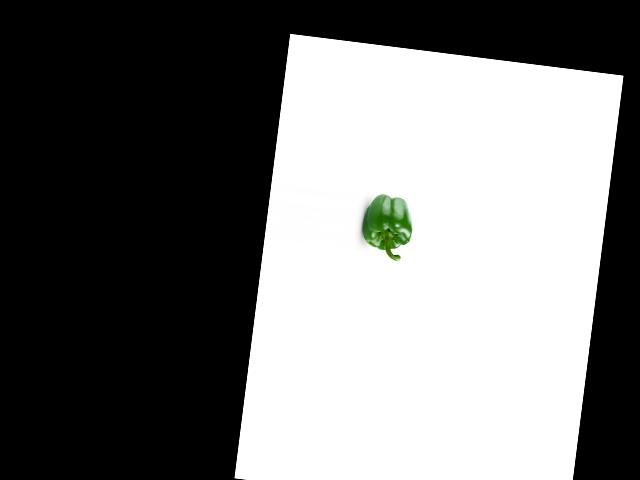bell_pepper: (359, 190, 417, 263)
